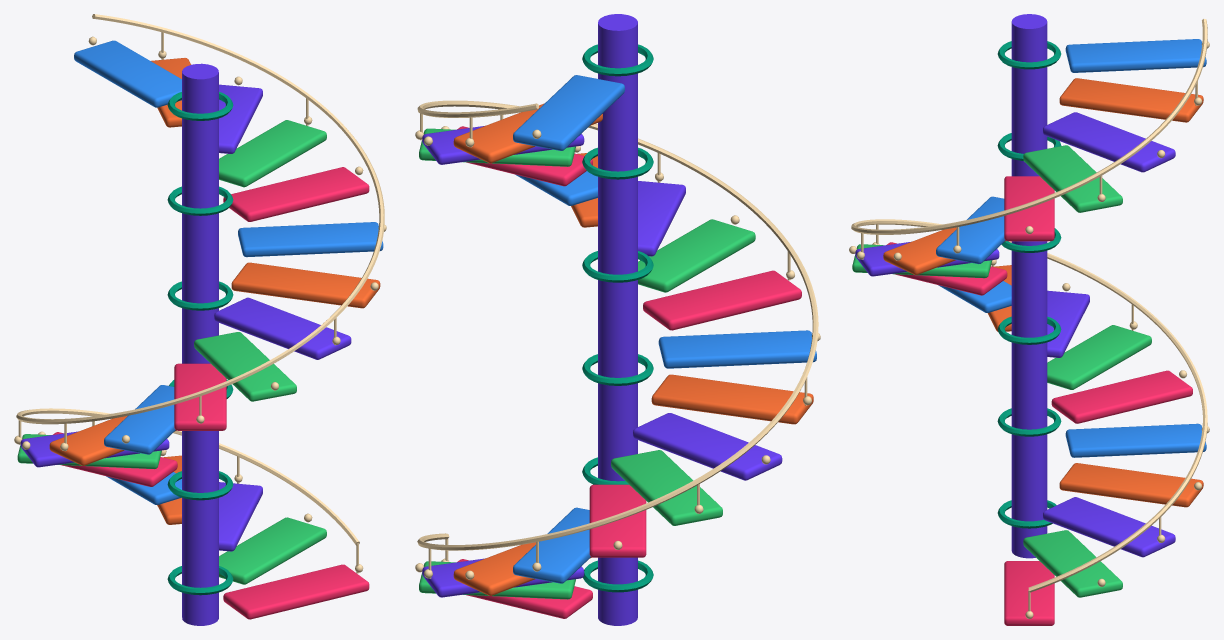
Rendered from Staircase.obj.
3 renders of one model, left to right at view 1: azimuth 30°, elevation 25°; view 2: azimuth 150°, elevation 25°; view 3: azimuth 270°, elevation 25°, orthographic. The views are drawn at different scales.
Parts seen in each view (by area): view 1: Staircase; view 2: Staircase; view 3: Staircase.
Part boxes in pixels (x1,y1,x2,y2): Staircase: [14, 14, 386, 625]; Staircase: [415, 14, 820, 625]; Staircase: [849, 14, 1209, 625].
Size of the model in its own units: 12.07 by 19.68 by 12.11.
